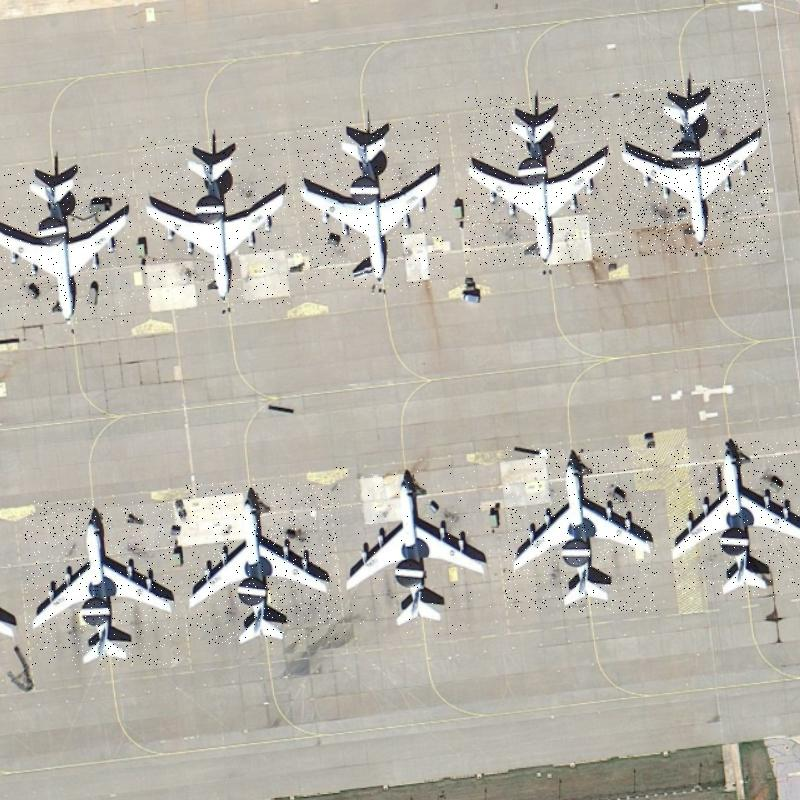A7: (617, 80, 770, 257), (335, 465, 493, 635), (25, 501, 180, 665), (505, 447, 657, 613), (140, 137, 291, 304), (465, 97, 612, 266), (186, 483, 339, 645), (297, 121, 444, 287), (1, 167, 132, 322), (669, 441, 799, 597)
